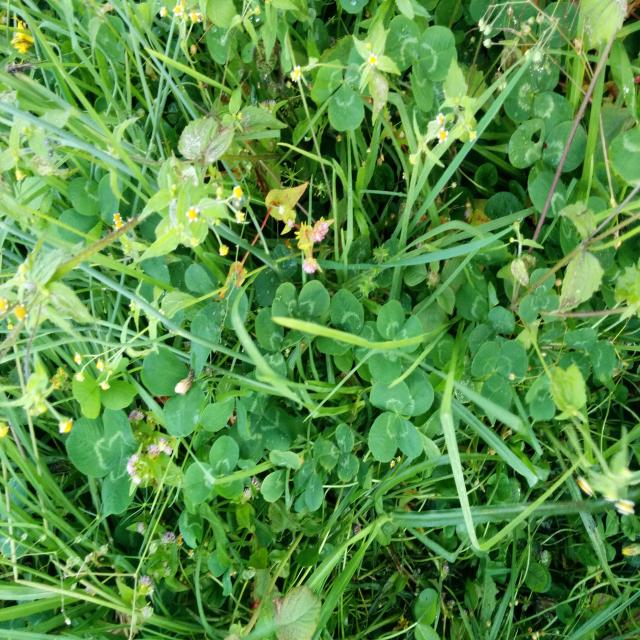Four Leaf Clover: (368, 371, 434, 463)
